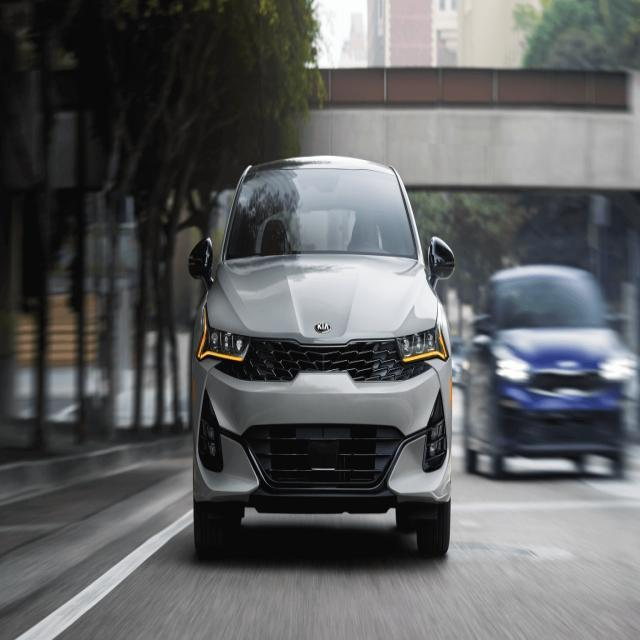pickup: (188, 153, 456, 561), (462, 262, 638, 479)
